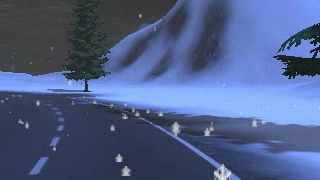Lane: (0, 90, 244, 179)
